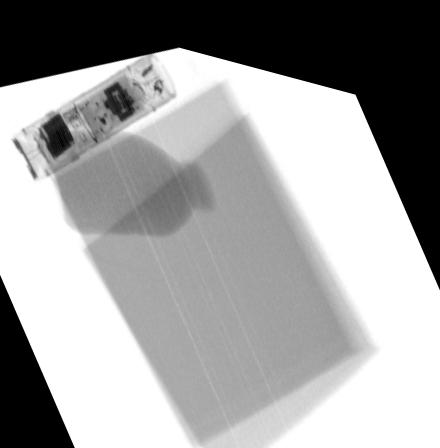Baton: (8, 46, 179, 182)
